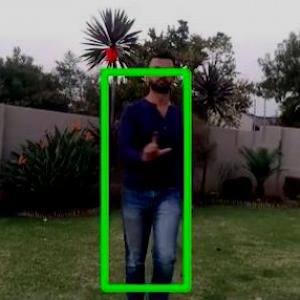land_hand: (135, 123, 173, 168)
